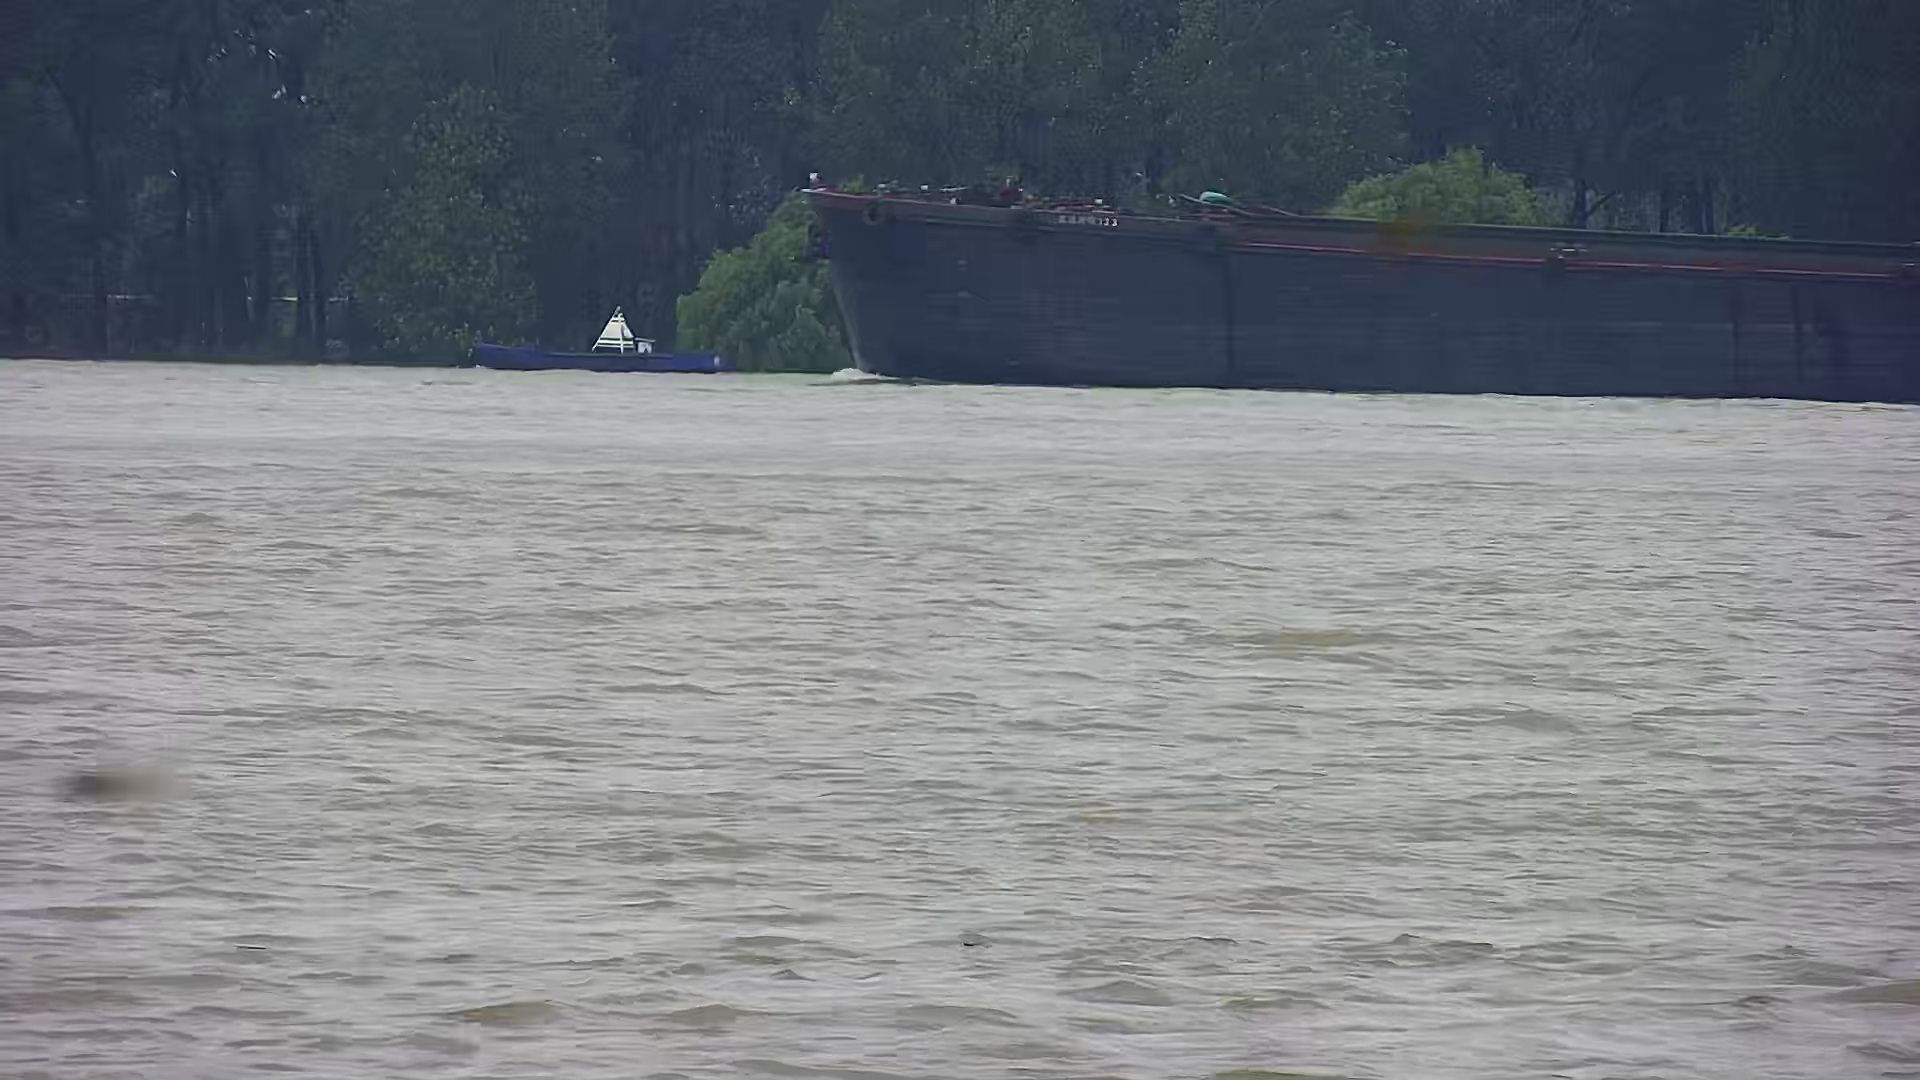boat: (471, 295, 719, 382)
ship: (791, 156, 1919, 410)
